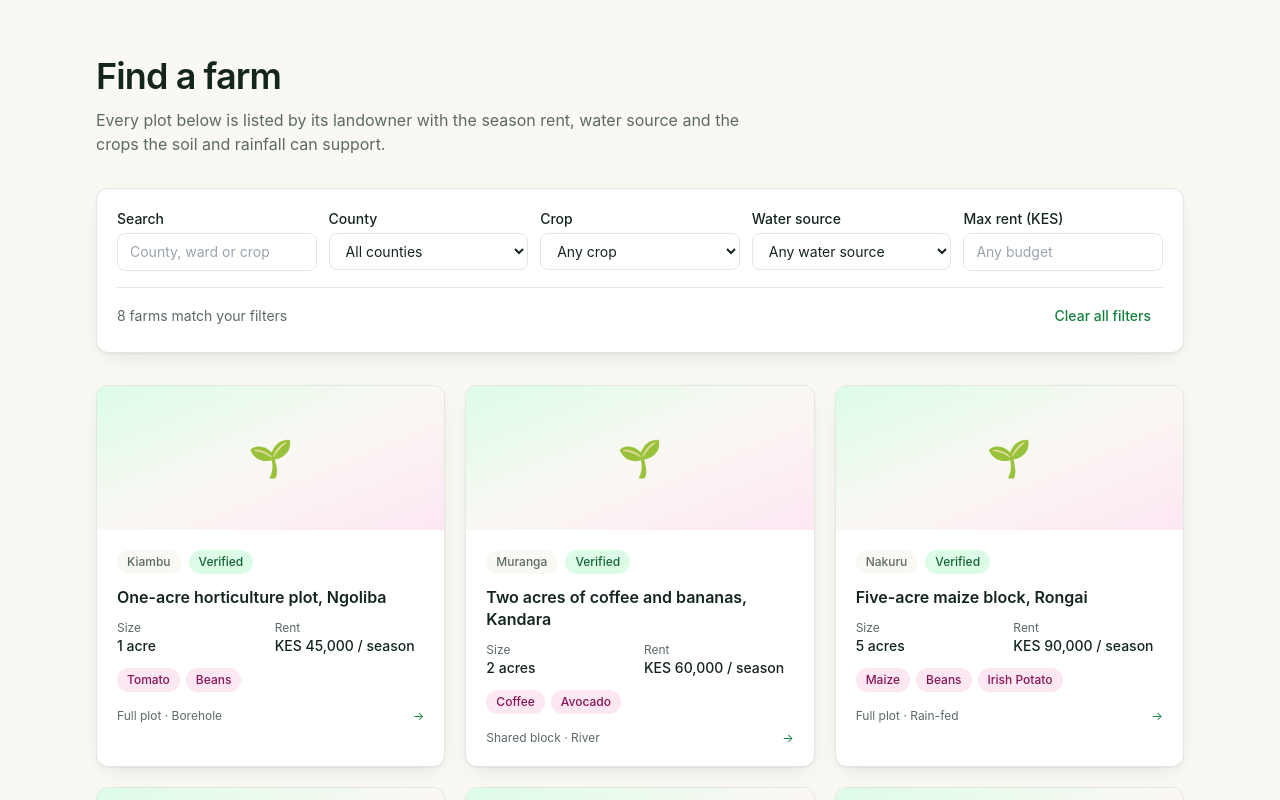
Test: BrowseFarms › narrows the list when a county is chosen
Select "Nakuru" in the dropdown labelled "County": (428, 252) [329,233,528,270]
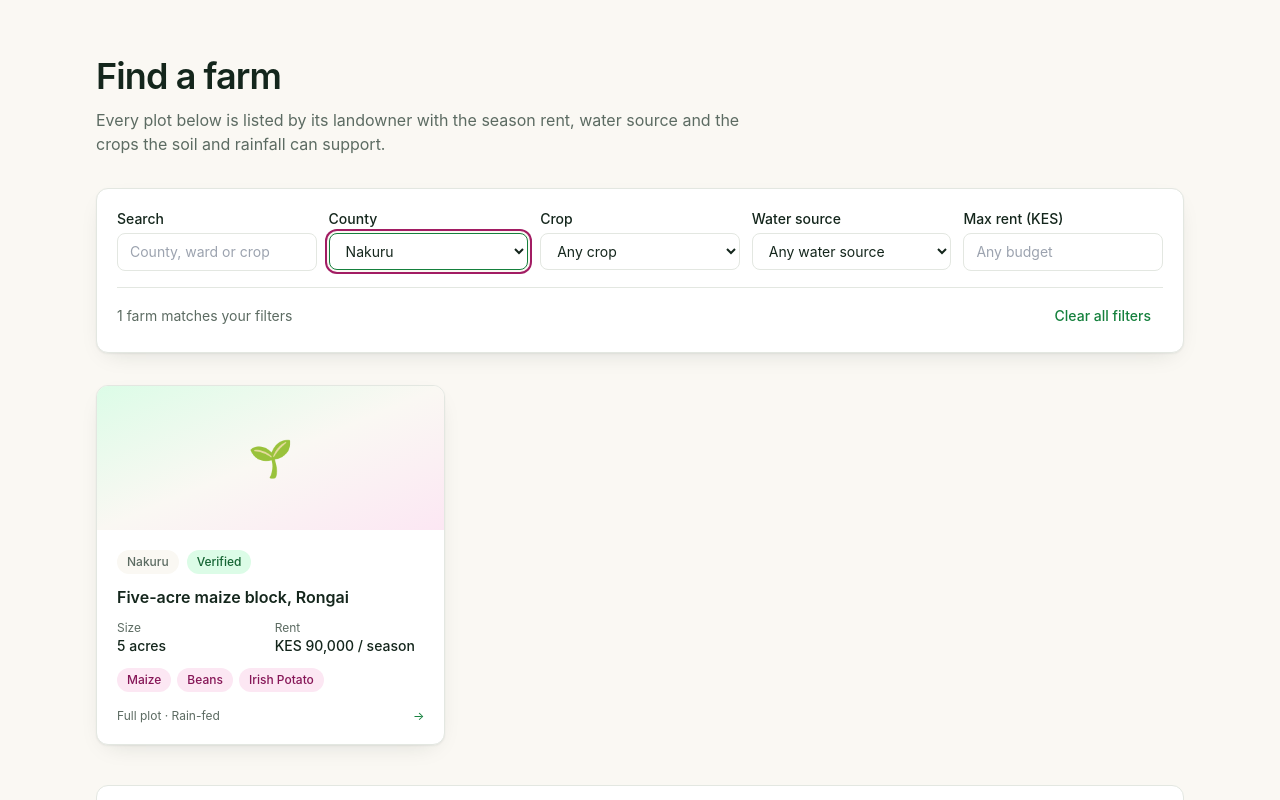
expect the link "Five-acre maize block, Rongai" is shown: met, box [117,587,349,607]
expect the link "One-acre horticulture plot, Ngoliba" is gone: met
